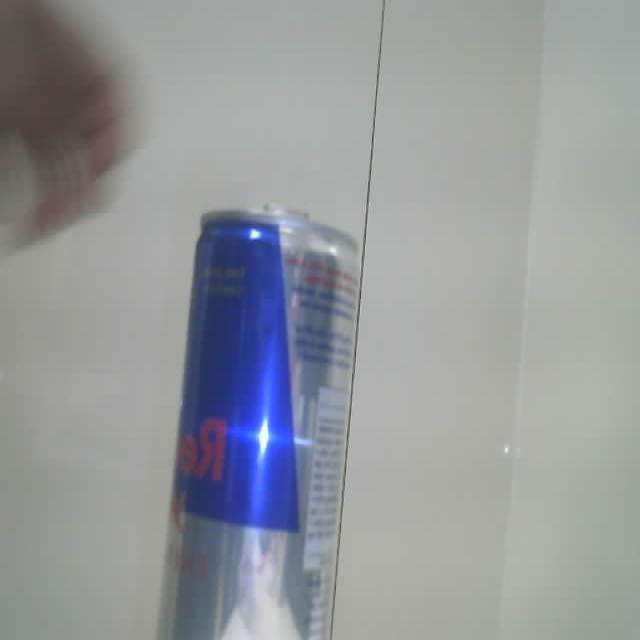redbull can: (159, 207, 358, 639)
